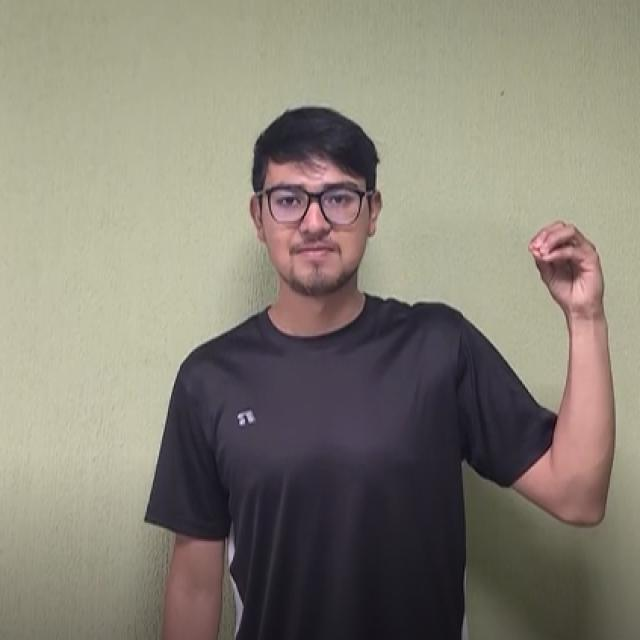O: (491, 182, 626, 334)
